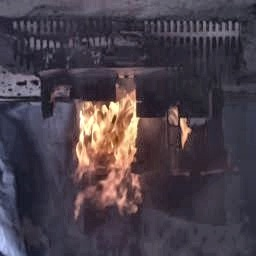fire: (61, 88, 144, 228)
